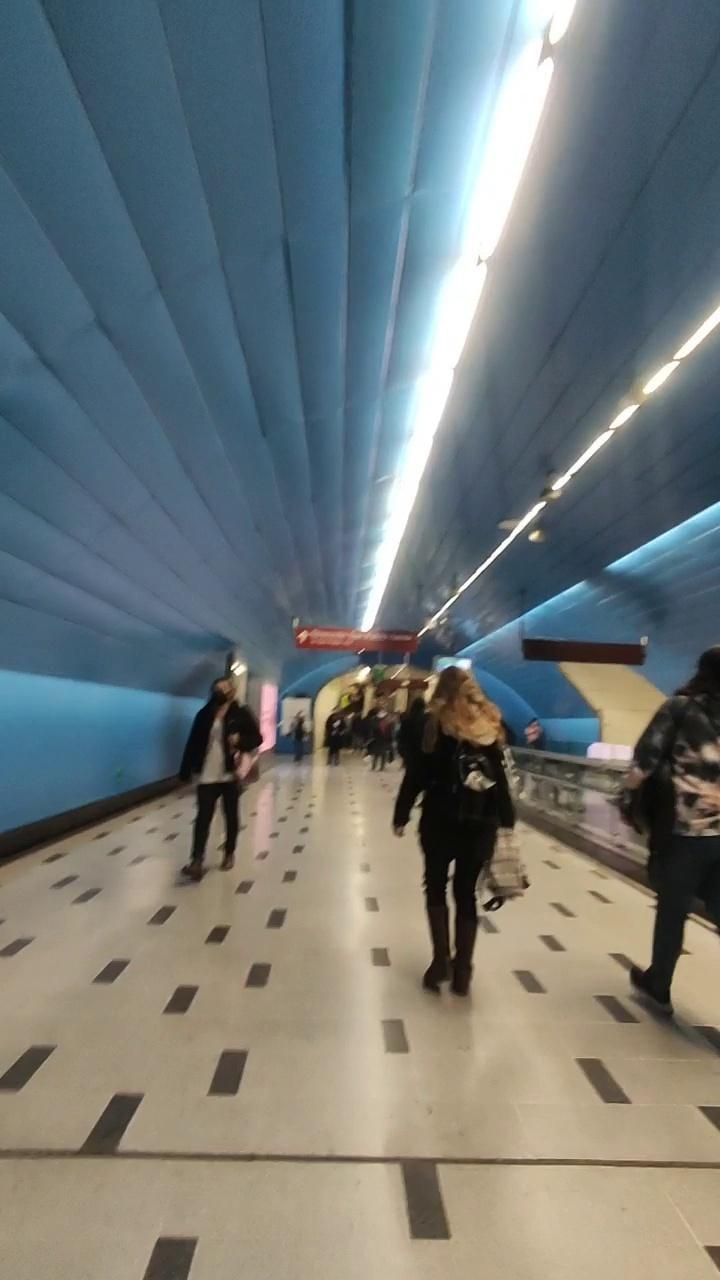up arrow: (296, 628, 311, 646)
